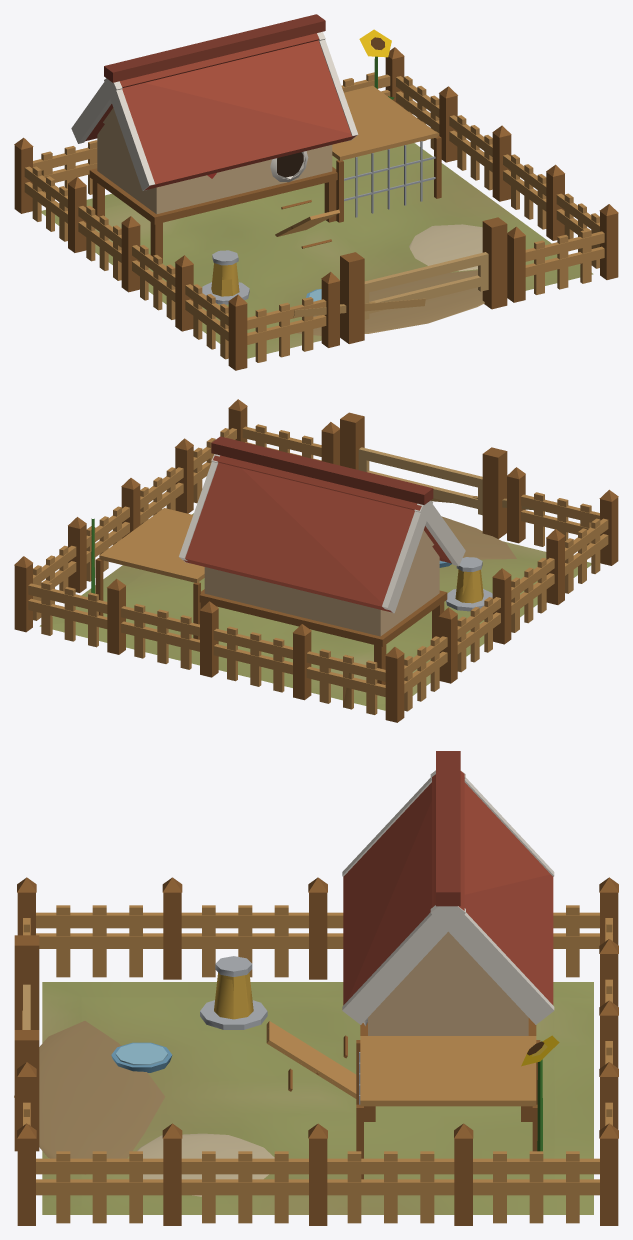
The model's file is quail_coop-w5.glb.
3 renders of one model, top to bottom at view 1: azimuth 30°, elevation 25°; view 2: azimuth 150°, elevation 25°; view 3: azimuth 270°, elevation 25°, orthographic. The views are drawn at different scales.
Visible parts, largest first — view 1: home-quail_coop, home-quail_coop-far; view 2: home-quail_coop, home-quail_coop-far; view 3: home-quail_coop, home-quail_coop-far.
Boxes of the visible parts, left/top/right/bottom form: home-quail_coop: left=22, top=21, right=618, bottom=362; home-quail_coop-far: left=14, top=14, right=618, bottom=370; home-quail_coop: left=24, top=399, right=607, bottom=714; home-quail_coop-far: left=14, top=399, right=618, bottom=722; home-quail_coop: left=14, top=770, right=618, bottom=1214; home-quail_coop-far: left=14, top=751, right=618, bottom=1225.
Bounding box in the file's own units: 3.93 × 1.74 × 3.95.
